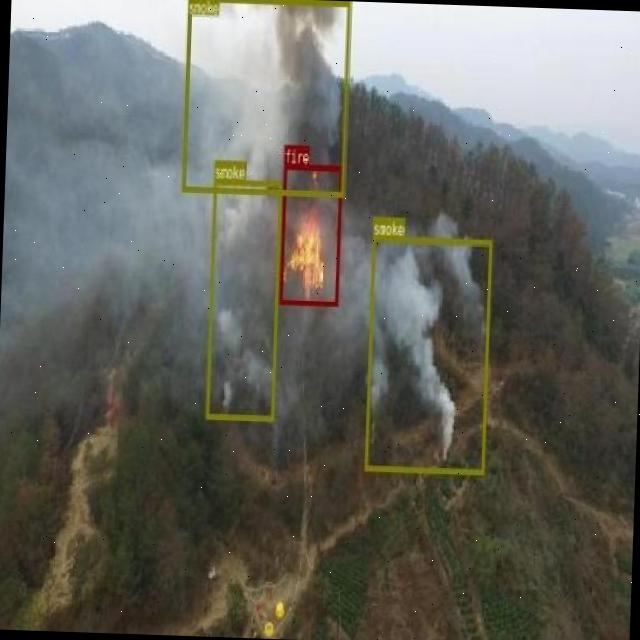fire: (278, 162, 342, 304)
smoke: (180, 0, 350, 195), (364, 235, 492, 473), (206, 178, 282, 420)
